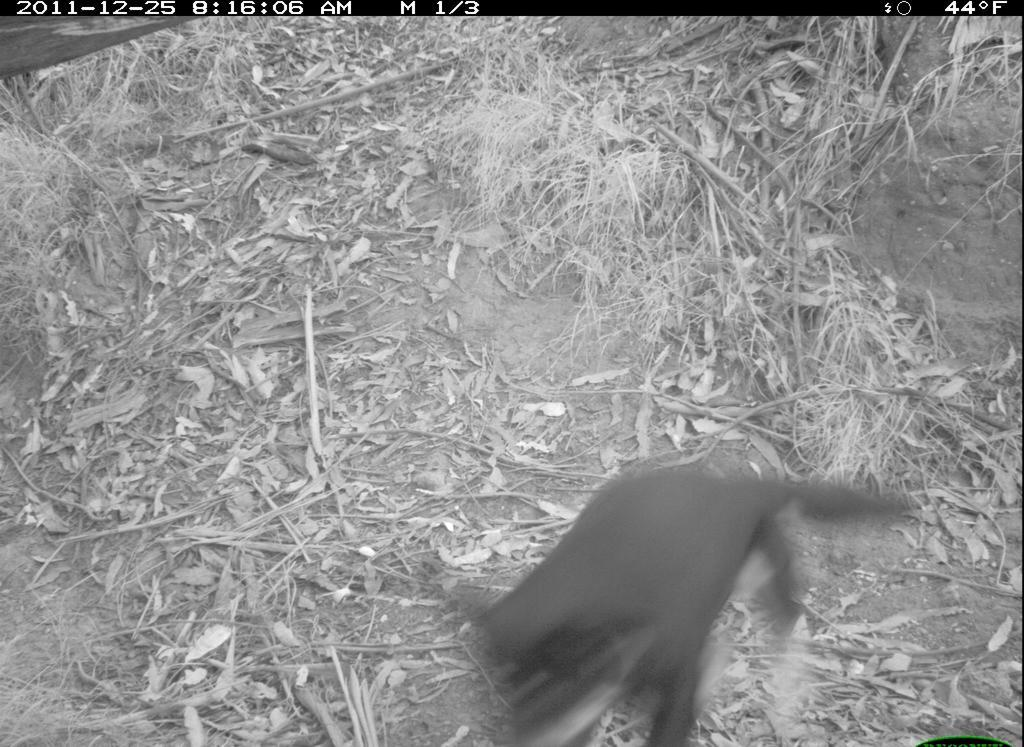dog: (436, 459, 929, 747)
